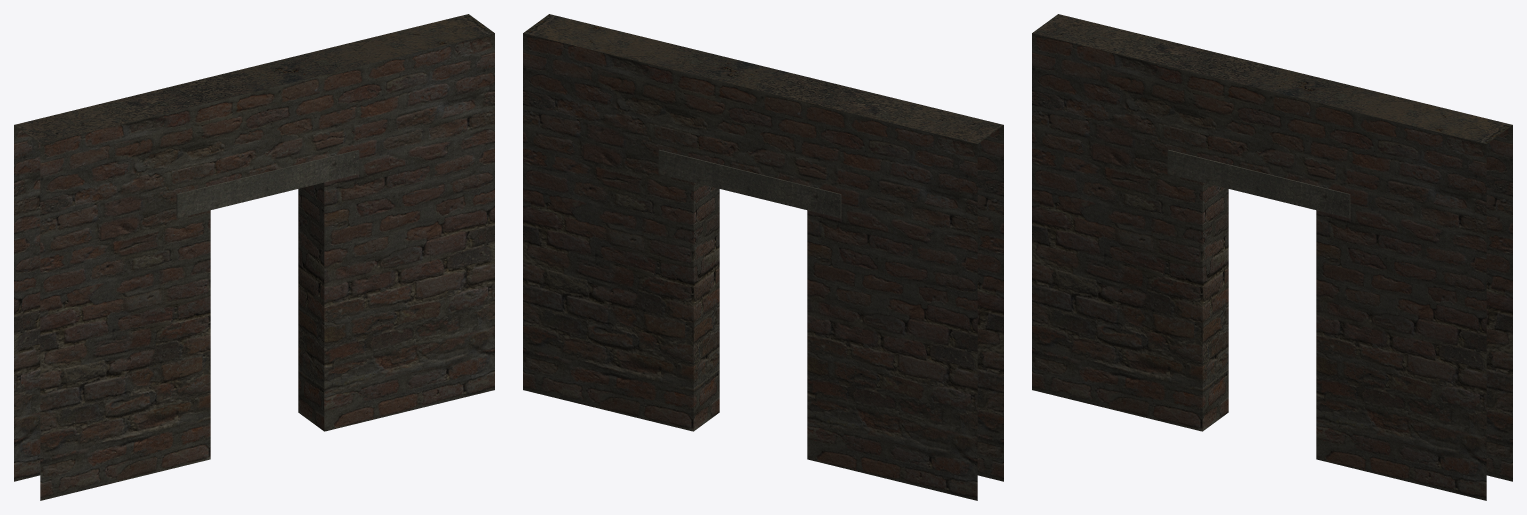
The model's file is doorway_hr_2_regular.dae.
3 renders of one model, left to right at view 1: azimuth 30°, elevation 25°; view 2: azimuth 150°, elevation 25°; view 3: azimuth 330°, elevation 25°, orthographic.
Parts seen in each view (by area): view 1: doorway_hr_2_regular; view 2: doorway_hr_2_regular; view 3: doorway_hr_2_regular.
Part boxes in pixels (x1,y1,x2,y2): doorway_hr_2_regular: (14,14,494,500); doorway_hr_2_regular: (523,14,1003,500); doorway_hr_2_regular: (1032,14,1512,500).
Bounding box in the file's own units: 4 × 0.42 × 3.
3 materials, 3 textured.
